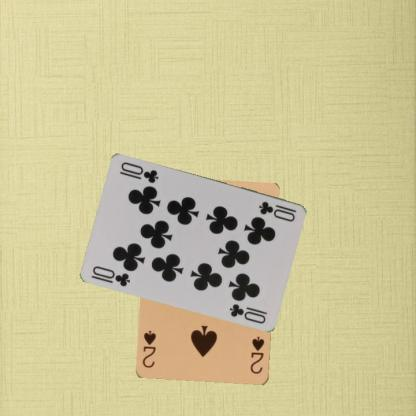10c: (256, 198, 298, 223), (90, 263, 132, 288)
2s: (248, 334, 266, 376)
